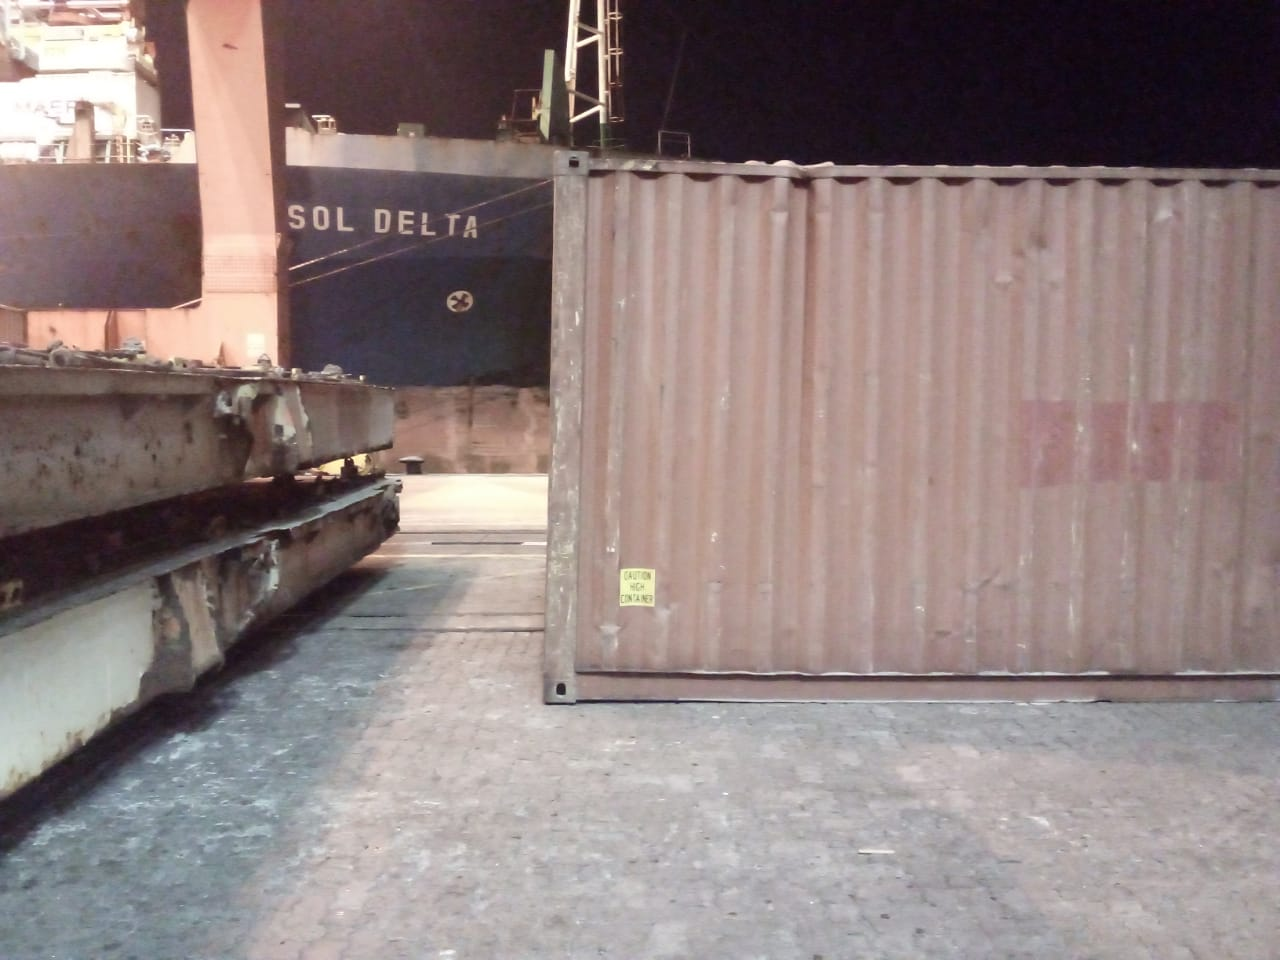bulged: (741, 162, 876, 331)
